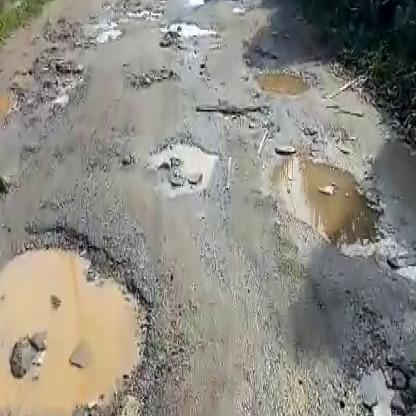pothole: (0, 250, 151, 416), (264, 148, 386, 251), (0, 71, 85, 123), (152, 135, 216, 194), (247, 62, 311, 98), (194, 102, 272, 128), (124, 65, 178, 88), (162, 19, 215, 39), (383, 253, 416, 283), (403, 295, 416, 343)
